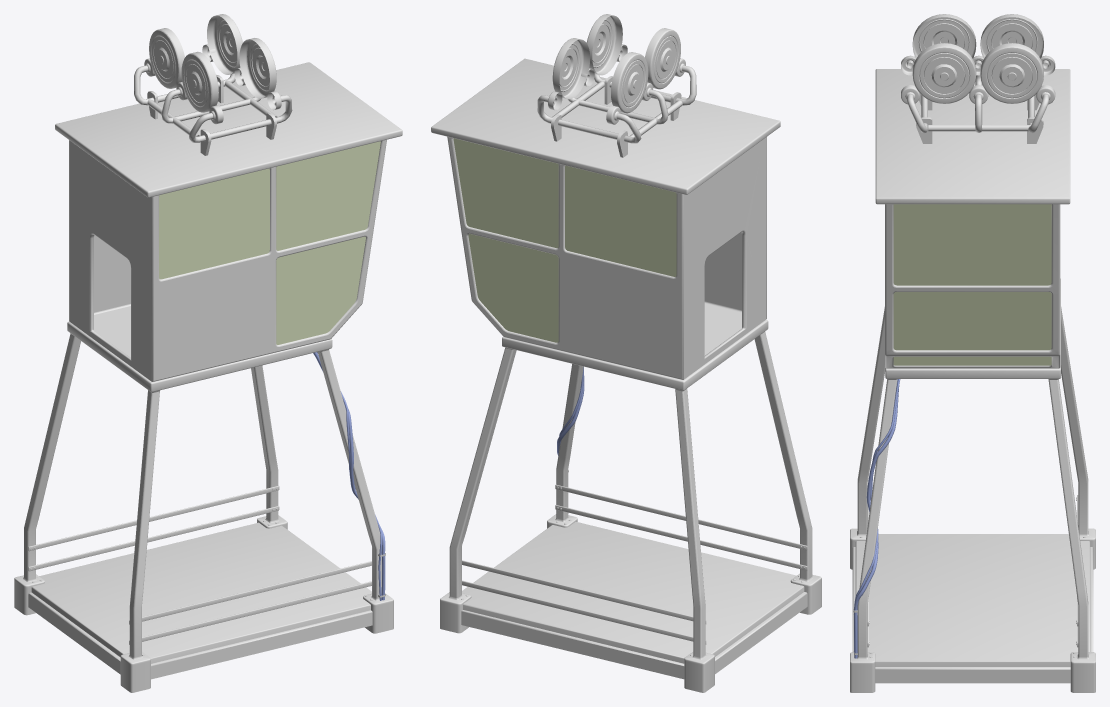
File: CraneCabin.fbx
3 views of the same model, side by side, from view 1: azimuth 30°, elevation 25°; view 2: azimuth 150°, elevation 25°; view 3: azimuth 270°, elevation 25° (orthographic). The views are drawn at different scales.
Visible parts, largest first — view 1: Cabin, Wheel.006, Wheel.007, Wheel.004, Wheel.005; view 2: Cabin, Wheel.004, Wheel.005, Wheel.007, Wheel.006; view 3: Cabin, Wheel.005, Wheel.007, Wheel.006, Wheel.004.
Boxes of the visible parts, bbox=[...] form: Cabin: bbox=[14, 50, 402, 692]; Wheel.006: bbox=[181, 51, 218, 112]; Wheel.007: bbox=[239, 38, 276, 98]; Wheel.004: bbox=[149, 28, 184, 88]; Wheel.005: bbox=[207, 14, 242, 74]; Cabin: bbox=[431, 50, 821, 692]; Wheel.004: bbox=[611, 52, 648, 113]; Wheel.005: bbox=[552, 38, 590, 99]; Wheel.007: bbox=[586, 14, 622, 75]; Wheel.006: bbox=[644, 28, 680, 89]; Cabin: bbox=[850, 60, 1095, 692]; Wheel.005: bbox=[980, 43, 1043, 103]; Wheel.007: bbox=[912, 43, 976, 103]; Wheel.006: bbox=[912, 14, 976, 58]; Wheel.004: bbox=[980, 14, 1043, 58].
Size of the model in its own units: 8.85 by 17.19 by 6.37.
